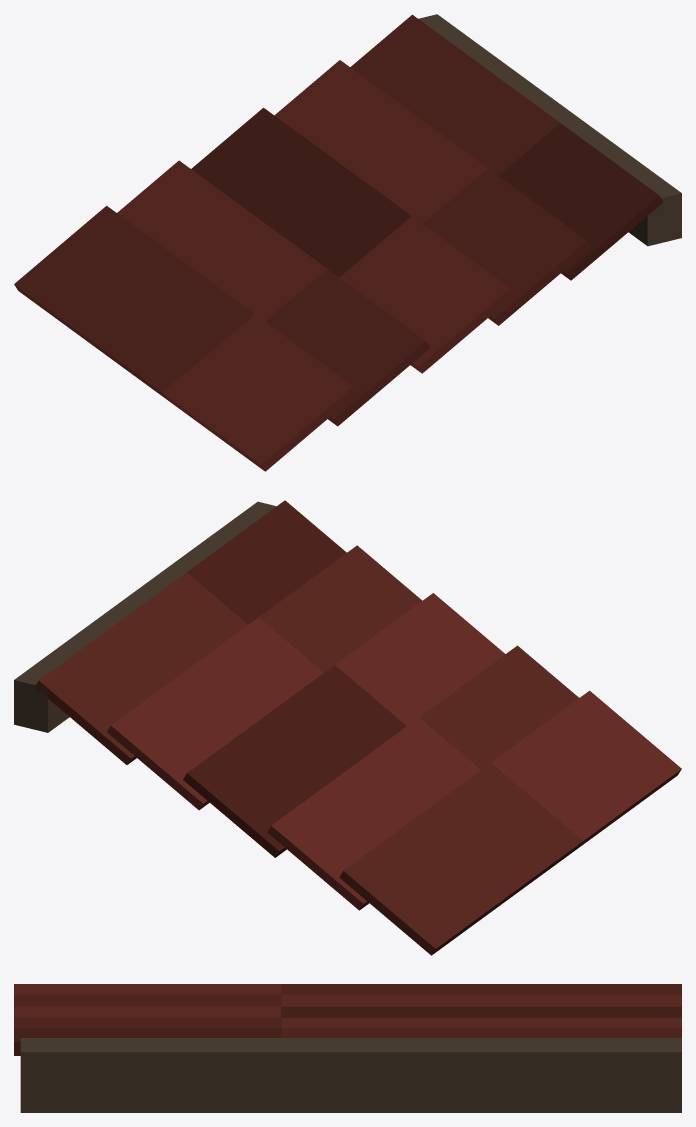
File: A_Roof10.fbx
3 views of the same model, one above another, from view 1: azimuth 30°, elevation 25°; view 2: azimuth 150°, elevation 25°; view 3: azimuth 270°, elevation 25° (orthographic). The views are drawn at different scales.
Parts seen in each view (by area): view 1: A_Roof10; view 2: A_Roof10; view 3: A_Roof10.
Part boxes in pixels (bbox=[...]): A_Roof10: bbox=[14, 14, 681, 471]; A_Roof10: bbox=[14, 500, 681, 955]; A_Roof10: bbox=[14, 984, 681, 1112].
Bounding box in the file's own units: 98.9 × 40.23 × 100.
